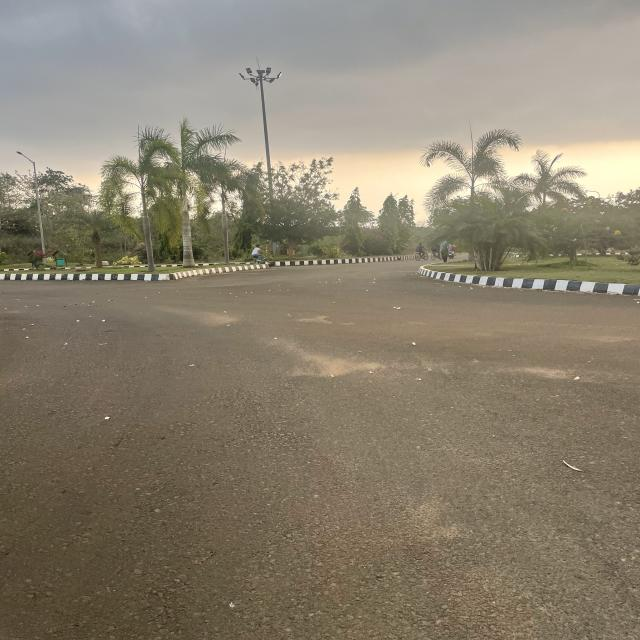D40: (290, 348, 588, 388)
D43: (346, 474, 550, 634)
